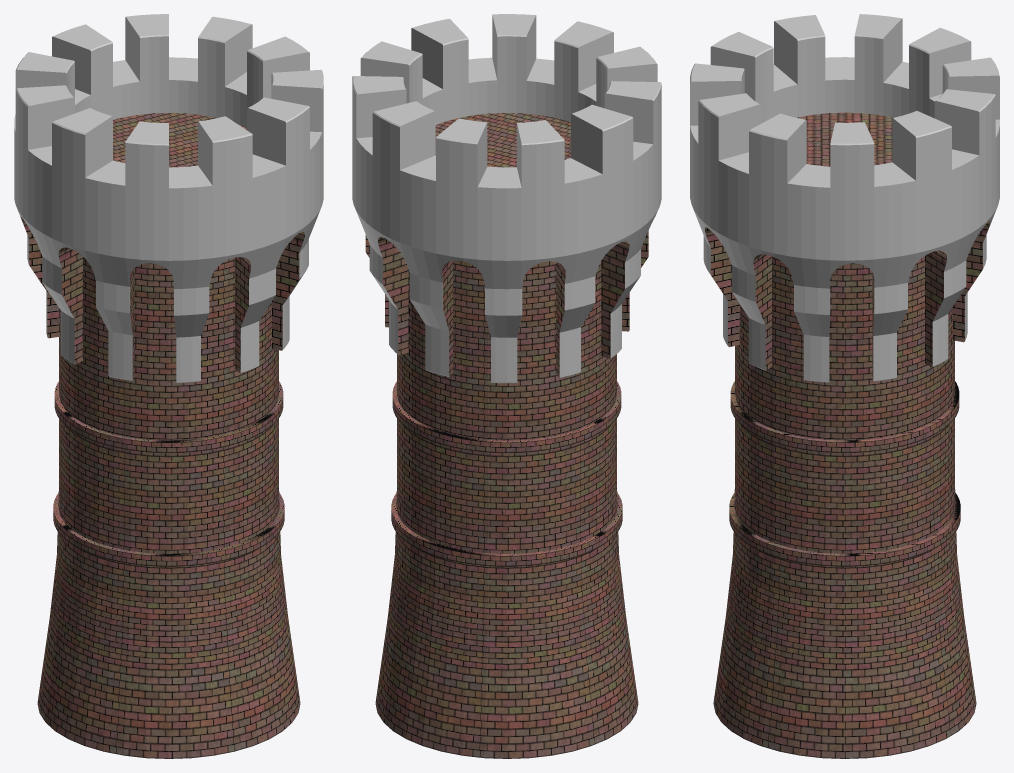
File: Only Tower.obj
3 renders of one model, left to right at view 1: azimuth 30°, elevation 25°; view 2: azimuth 150°, elevation 25°; view 3: azimuth 270°, elevation 25°, orthographic.
Visible parts, largest first — view 1: Tower Cilindro, Tower Boole Tubo_2, Tower Tubo_1, Tower Tube, Tower Cilindro_1, Tower Boole ghost Cubo_9, Tower Boole ghost Cubo_5, Tower Boole ghost Cubo_10, Tower Boole ghost Cubo_6; view 2: Tower Cilindro, Tower Boole Tubo_2, Tower Tubo_1, Tower Tube, Tower Cilindro_1, Tower Boole ghost Cubo_1, Tower Boole ghost Cubo_6, Tower Boole ghost Cubo_7, Tower Boole ghost Cubo_4; view 3: Tower Cilindro, Tower Boole Tubo_2, Tower Tubo_1, Tower Tube, Tower Cilindro_1, Tower Boole ghost Cubo_9, Tower Boole ghost Cubo_2, Tower Boole ghost Cubo_3, Tower Boole ghost Cubo_1.
Boxes of the visible parts, left/top/right/bottom form: Tower Cilindro: left=37, top=257, right=300, bottom=758; Tower Boole Tubo_2: left=14, top=14, right=323, bottom=383; Tower Tubo_1: left=53, top=493, right=284, bottom=566; Tower Tube: left=54, top=381, right=283, bottom=453; Tower Cilindro_1: left=113, top=113, right=246, bottom=167; Tower Boole ghost Cubo_9: left=272, top=231, right=304, bottom=350; Tower Boole ghost Cubo_5: left=58, top=247, right=82, bottom=364; Tower Boole ghost Cubo_10: left=235, top=257, right=250, bottom=373; Tower Boole ghost Cubo_6: left=21, top=217, right=59, bottom=338; Tower Cilindro: left=375, top=260, right=638, bottom=758; Tower Boole Tubo_2: left=352, top=14, right=661, bottom=383; Tower Tubo_1: left=391, top=493, right=622, bottom=566; Tower Tube: left=392, top=381, right=621, bottom=453; Tower Cilindro_1: left=435, top=113, right=570, bottom=167; Tower Boole ghost Cubo_1: left=378, top=237, right=408, bottom=355; Tower Boole ghost Cubo_6: left=601, top=241, right=629, bottom=358; Tower Boole ghost Cubo_7: left=442, top=260, right=452, bottom=376; Tower Boole ghost Cubo_4: left=556, top=262, right=565, bottom=377; Tower Cilindro: left=713, top=256, right=976, bottom=758; Tower Boole Tubo_2: left=690, top=14, right=999, bottom=382; Tower Tubo_1: left=729, top=493, right=960, bottom=566; Tower Tube: left=730, top=381, right=959, bottom=453; Tower Cilindro_1: left=796, top=112, right=893, bottom=166; Tower Boole ghost Cubo_9: left=704, top=227, right=739, bottom=347; Tower Boole ghost Cubo_2: left=925, top=250, right=946, bottom=367; Tower Boole ghost Cubo_3: left=753, top=254, right=771, bottom=370; Tower Boole ghost Cubo_1: left=953, top=221, right=990, bottom=342.
Bounding box in the file's own units: 274 × 609 × 274.
Materials: 1 (1 with a texture image).
